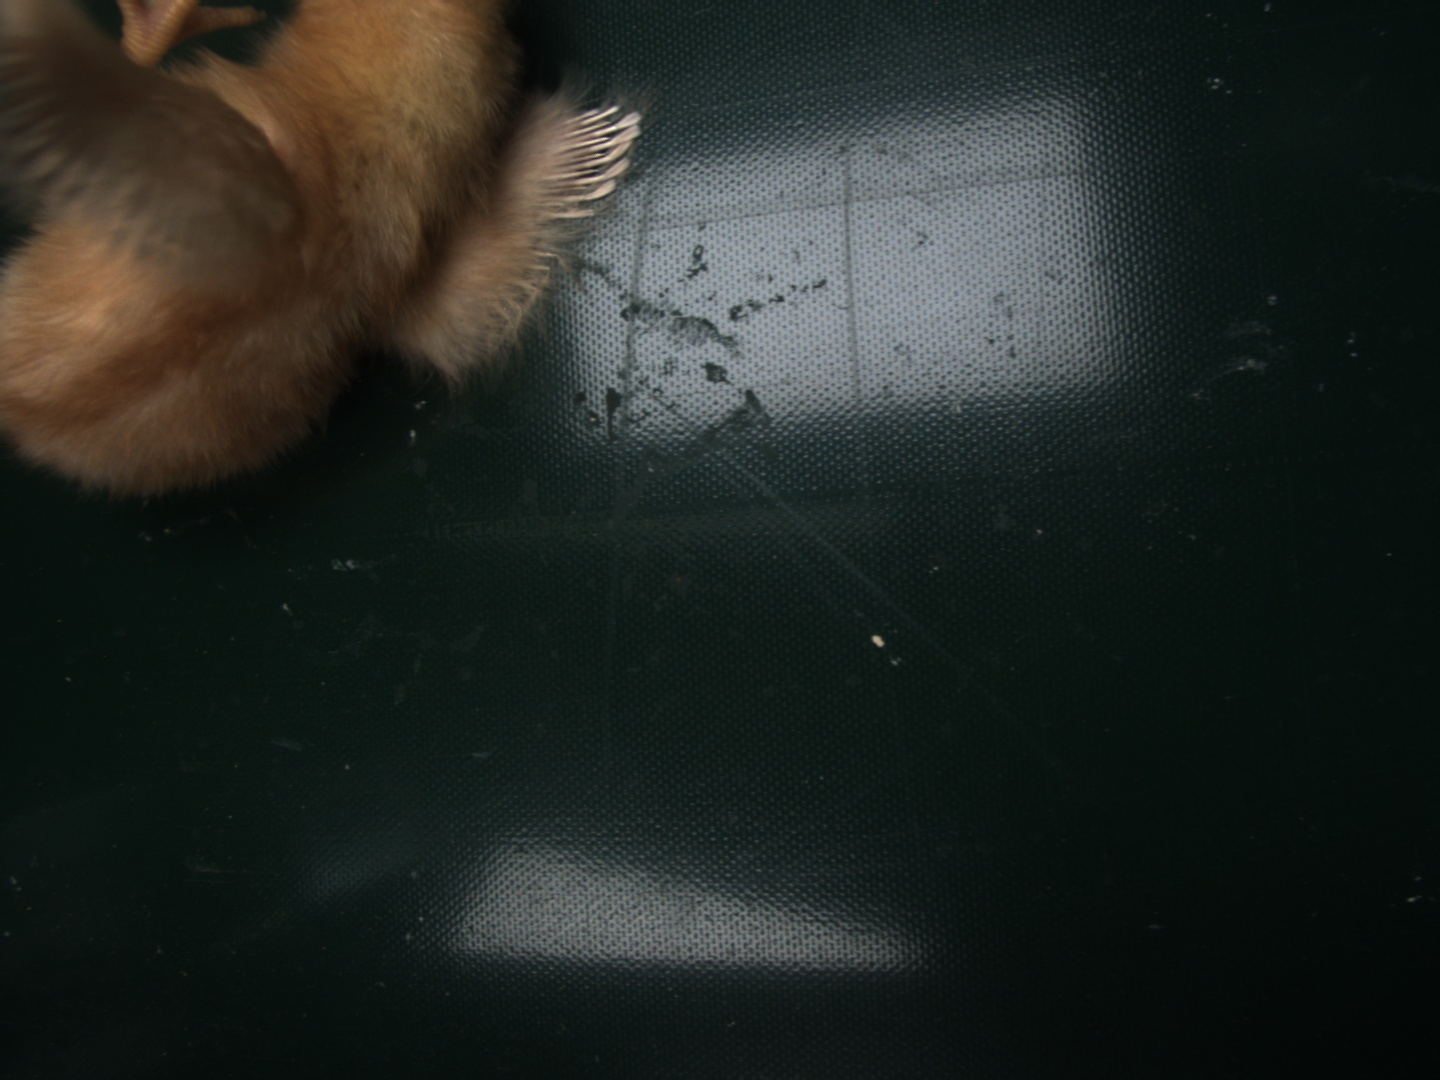female: (542, 108, 643, 220)
